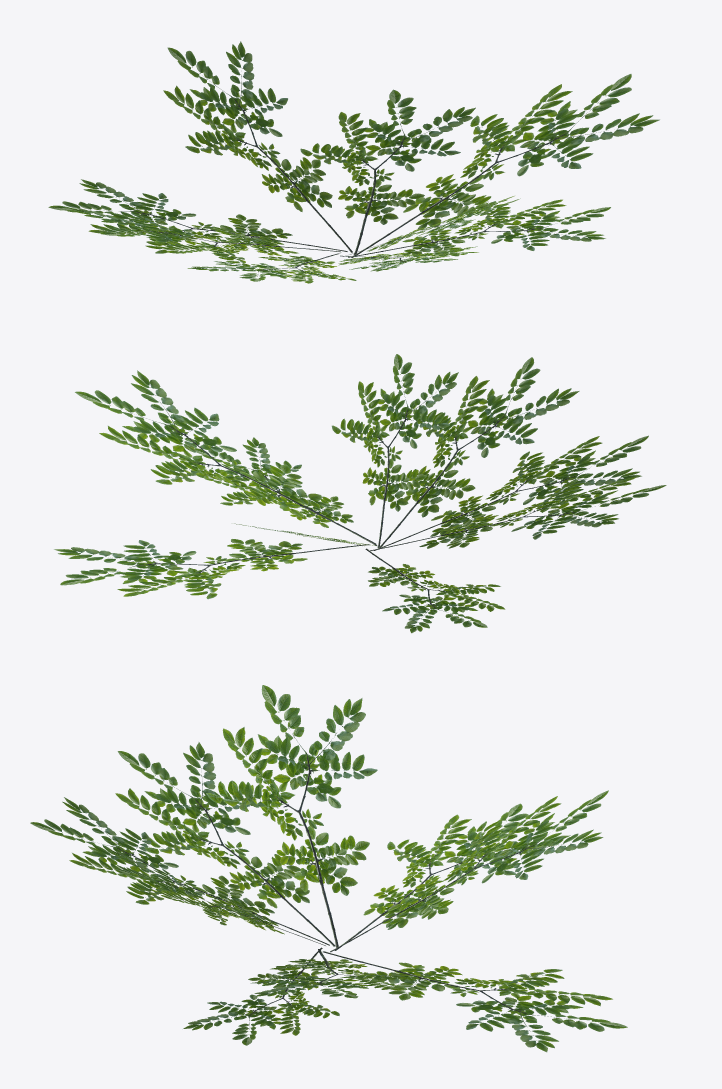
File: fern.glb
The picture shows the model from 3 angles, top to bottom: view 1: azimuth 30°, elevation 25°; view 2: azimuth 150°, elevation 25°; view 3: azimuth 270°, elevation 25°; orthographic projection. The views are drawn at different scales.
Visible parts, largest first — view 1: Leaves_LOD0; view 2: Leaves_LOD0; view 3: Leaves_LOD0.
Part boxes in pixels (bbox=[...]): Leaves_LOD0: bbox=[48, 41, 659, 283]; Leaves_LOD0: bbox=[54, 354, 666, 633]; Leaves_LOD0: bbox=[30, 685, 627, 1052].
Size of what is drawn, in the model's own units: 1.69 by 0.3335 by 1.58.
1 material, 1 textured.
